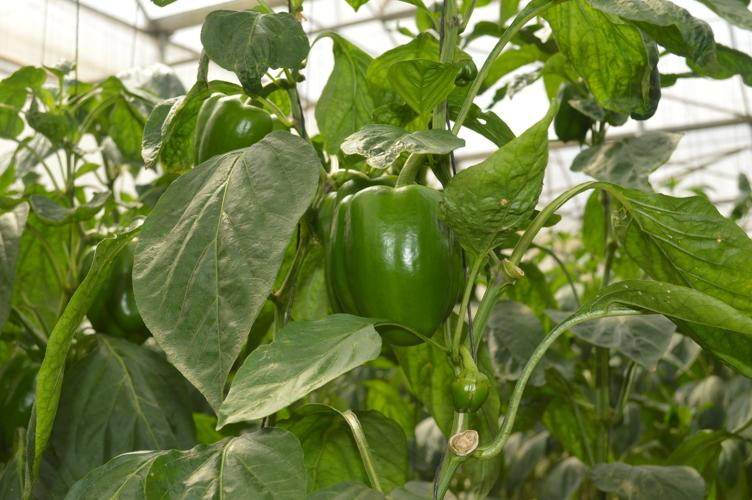BellPepper: (330, 184, 465, 341), (76, 241, 155, 341), (190, 94, 273, 160)
